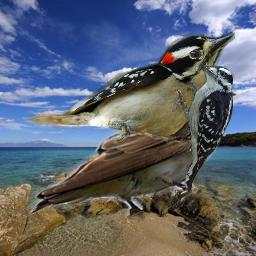Swallow: (25, 68, 238, 223)
Woodpecker: (29, 28, 235, 146), (172, 63, 241, 193)
